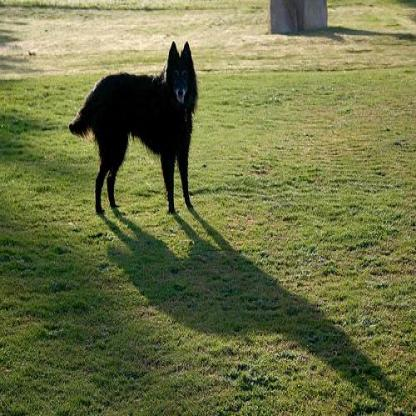groenendael: (68, 42, 196, 212)
